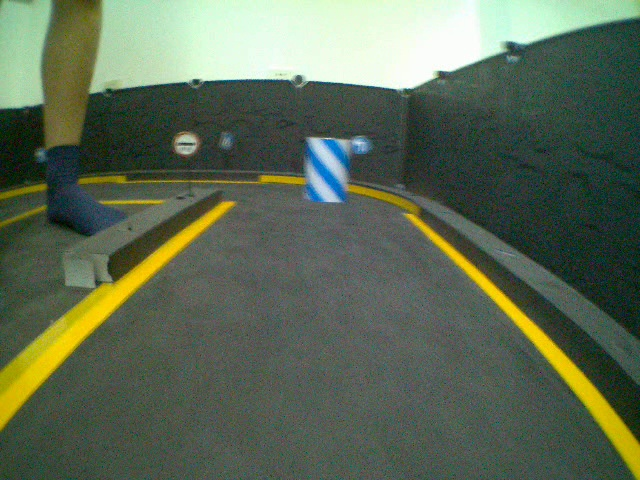bucket: (304, 131, 350, 209)
